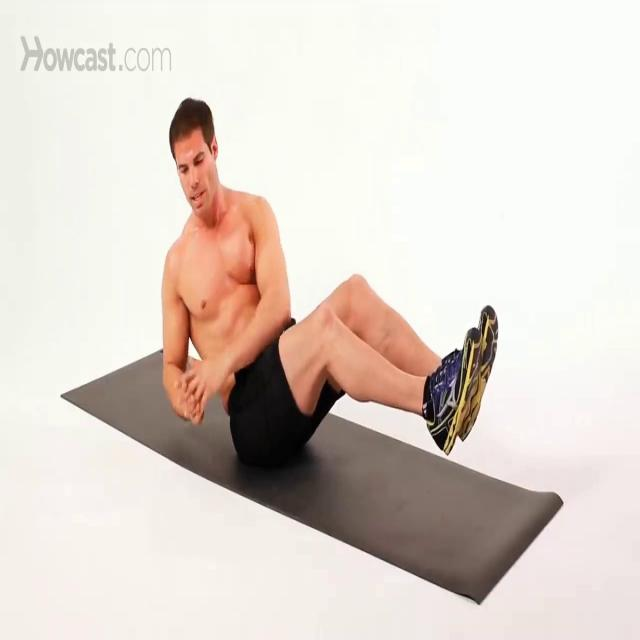Russian twist: (138, 69, 516, 511)
